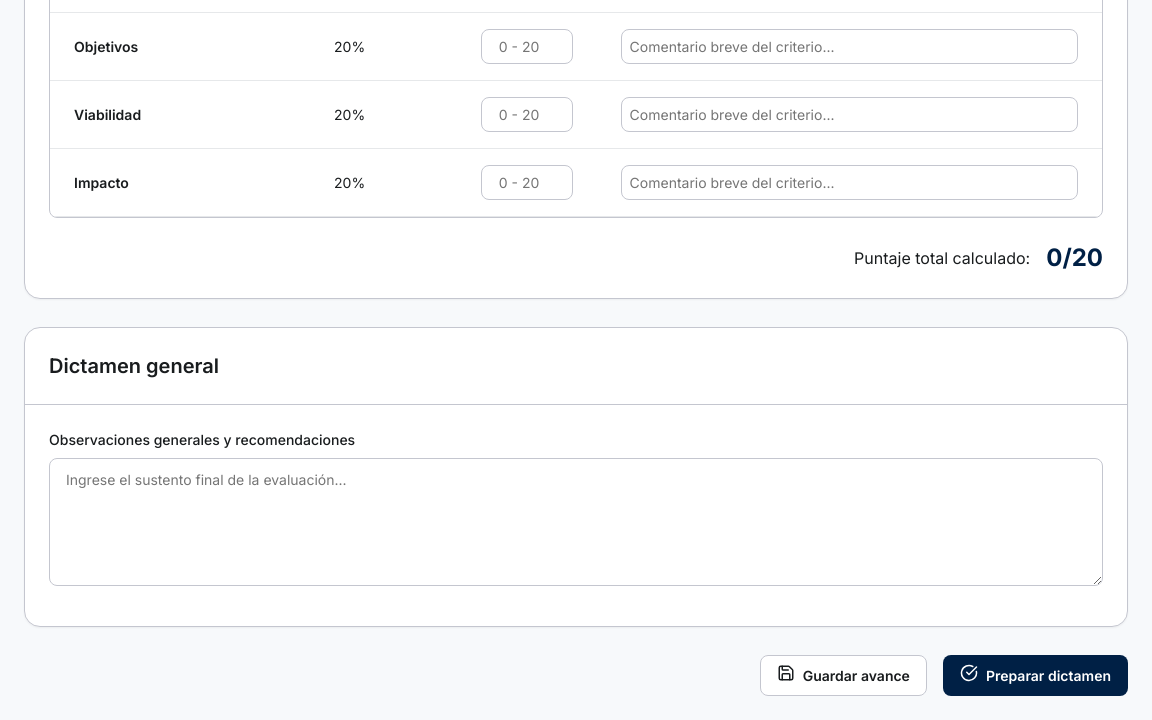
EvaluationForm › shows progress saved message on save
Click the button "Guardar avance": click(843, 676) x1=760 y1=655 x2=927 y2=696
(page scrolled)
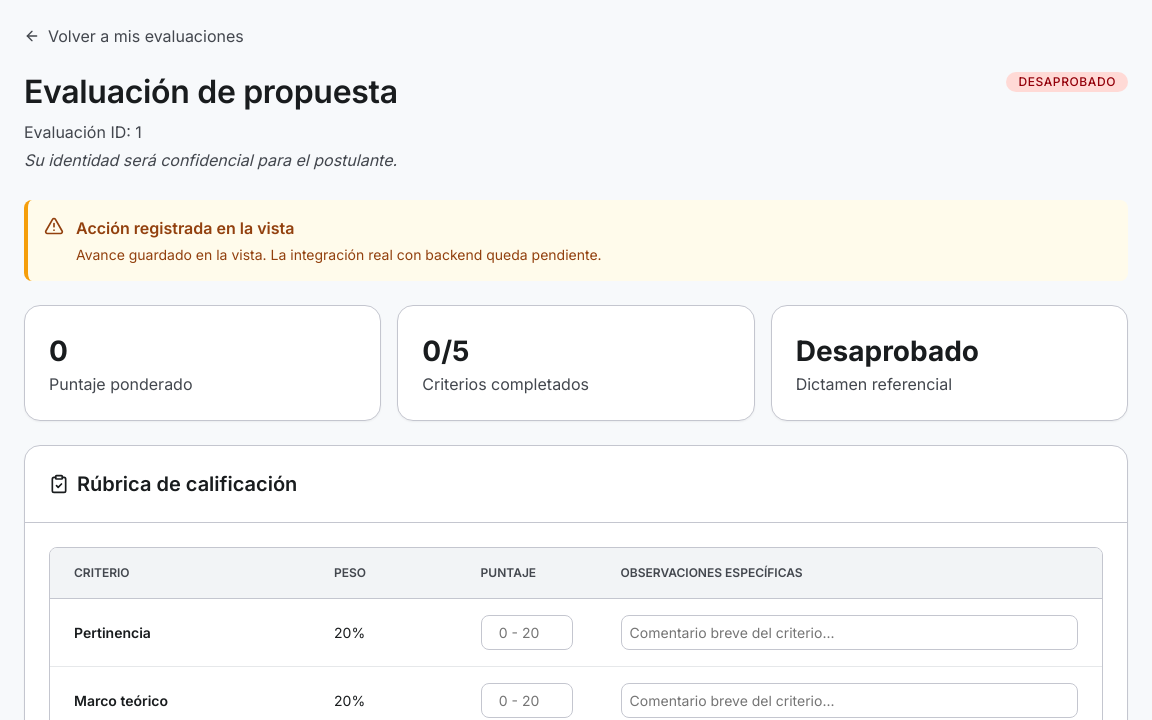
Expected: the text "Avance guardado" is shown, x1=76 y1=246 x2=602 y2=263
